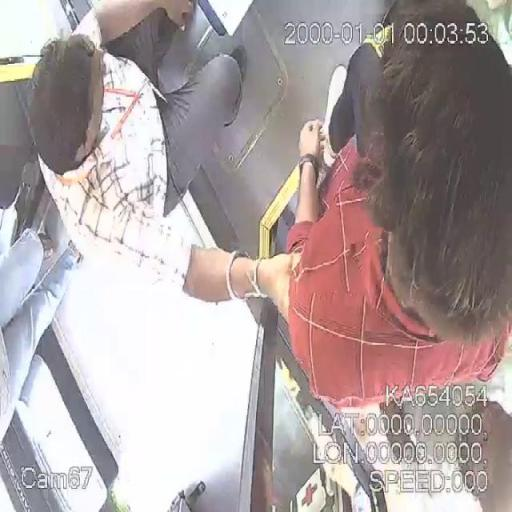persona: (284, 0, 511, 410), (25, 2, 298, 324)
